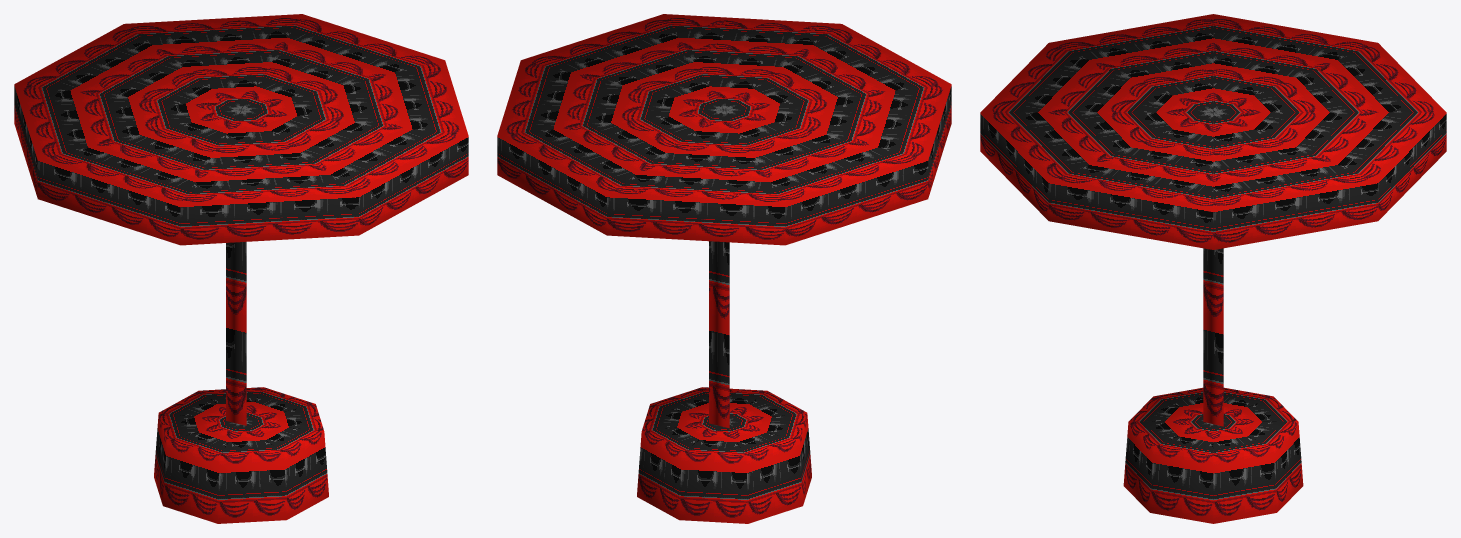
File: 3164IMFY04_06.gltf
The picture shows the model from 3 angles, left to right: view 1: azimuth 30°, elevation 25°; view 2: azimuth 150°, elevation 25°; view 3: azimuth 270°, elevation 25°; orthographic projection.
Visible parts, largest first — view 1: 3164IMFY04_06; view 2: 3164IMFY04_06; view 3: 3164IMFY04_06.
Boxes of the visible parts, left/top/right/bottom form: 3164IMFY04_06: left=14, top=14, right=468, bottom=523; 3164IMFY04_06: left=497, top=14, right=951, bottom=523; 3164IMFY04_06: left=980, top=14, right=1446, bottom=523.
Bounding box in the file's own units: 0.8481 × 0.75 × 0.8481.
1 material, 1 textured.
